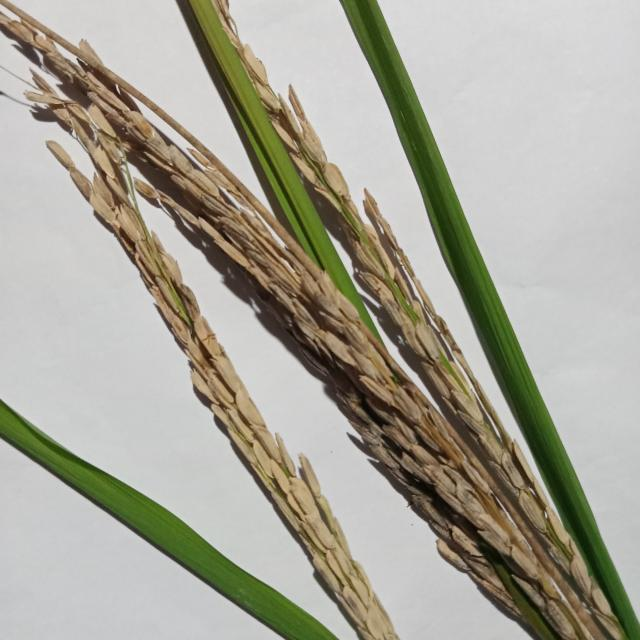Neck_Blast: (0, 0, 634, 640), (60, 147, 394, 640)
